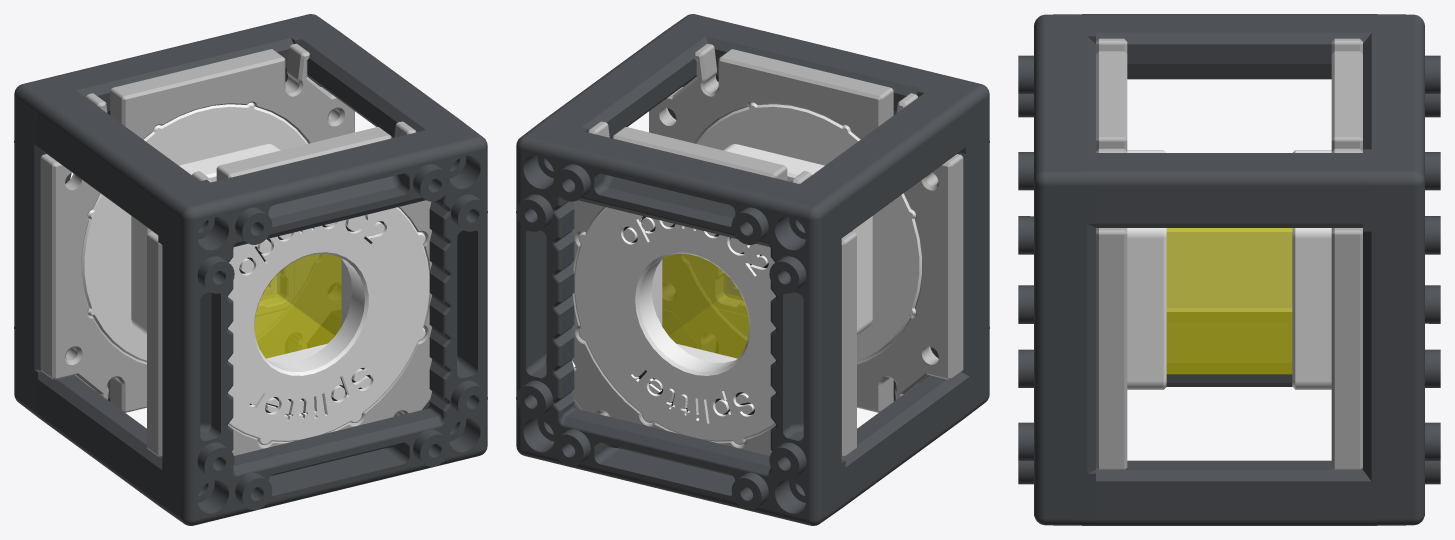
Rendered from ASS_-_2011_-_CUBSPLCUB_-_V04_-_A.glb.
The picture shows the model from 3 angles, left to right: view 1: azimuth 30°, elevation 25°; view 2: azimuth 150°, elevation 25°; view 3: azimuth 270°, elevation 25°; orthographic projection. The views are drawn at different scales.
Visible parts, largest first — view 1: PRT - 1003 - CUBHLF111 - V04:2, PRT - 2100 - MASINS - V04 - B:2, PRT - 2103 - MASINSSPLCUB - A:1, PRT - 1003 - CUBHLF111 - V04:1, PRT - 2103 - MASINSSPLCUB - A:2, PRT - 2100 - MASINS - V04 - B:1, BUY - Beam splitter cube 20x20x20:1; view 2: PRT - 1003 - CUBHLF111 - V04:1, PRT - 1003 - CUBHLF111 - V04:2, PRT - 2100 - MASINS - V04 - B:1, PRT - 2103 - MASINSSPLCUB - A:2, PRT - 2103 - MASINSSPLCUB - A:1, PRT - 2100 - MASINS - V04 - B:2, BUY - Beam splitter cube 20x20x20:1; view 3: PRT - 1003 - CUBHLF111 - V04:1, PRT - 1003 - CUBHLF111 - V04:2, BUY - Beam splitter cube 20x20x20:1, PRT - 2100 - MASINS - V04 - B:1, PRT - 2100 - MASINS - V04 - B:2, PRT - 2103 - MASINSSPLCUB - A:1, PRT - 2103 - MASINSSPLCUB - A:2.
Boxes of the visible parts, box(x1,y1,x2,y2) form: PRT - 1003 - CUBHLF111 - V04:2: box(38, 31, 487, 525); PRT - 2100 - MASINS - V04 - B:2: box(40, 43, 354, 412); PRT - 2103 - MASINSSPLCUB - A:1: box(228, 207, 429, 444); PRT - 1003 - CUBHLF111 - V04:1: box(14, 14, 455, 429); PRT - 2103 - MASINSSPLCUB - A:2: box(82, 102, 319, 362); PRT - 2100 - MASINS - V04 - B:1: box(147, 121, 431, 457); BUY - Beam splitter cube 20x20x20:1: box(254, 254, 341, 358); PRT - 1003 - CUBHLF111 - V04:1: box(516, 93, 965, 525); PRT - 1003 - CUBHLF111 - V04:2: box(544, 14, 989, 506); PRT - 2100 - MASINS - V04 - B:1: box(649, 43, 963, 412); PRT - 2103 - MASINSSPLCUB - A:2: box(574, 207, 775, 445); PRT - 2103 - MASINSSPLCUB - A:1: box(684, 102, 921, 362); PRT - 2100 - MASINS - V04 - B:2: box(572, 121, 856, 457); BUY - Beam splitter cube 20x20x20:1: box(662, 254, 749, 358); PRT - 1003 - CUBHLF111 - V04:1: box(1096, 14, 1440, 525); PRT - 1003 - CUBHLF111 - V04:2: box(1018, 14, 1362, 525); BUY - Beam splitter cube 20x20x20:1: box(1166, 228, 1292, 374); PRT - 2100 - MASINS - V04 - B:1: box(1096, 38, 1127, 470); PRT - 2100 - MASINS - V04 - B:2: box(1331, 38, 1362, 470); PRT - 2103 - MASINSSPLCUB - A:1: box(1127, 150, 1166, 389); PRT - 2103 - MASINSSPLCUB - A:2: box(1292, 150, 1331, 389).
Size of the model in its own units: 49.8 by 49.8 by 53.8.
